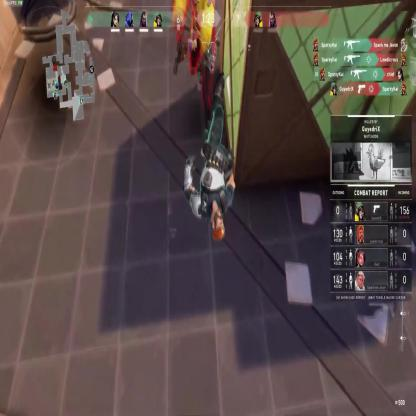enemy: (174, 0, 215, 137)
